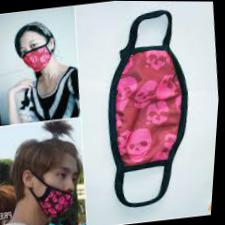OK: (19, 39, 52, 74)
WRONG: (38, 160, 88, 220)
